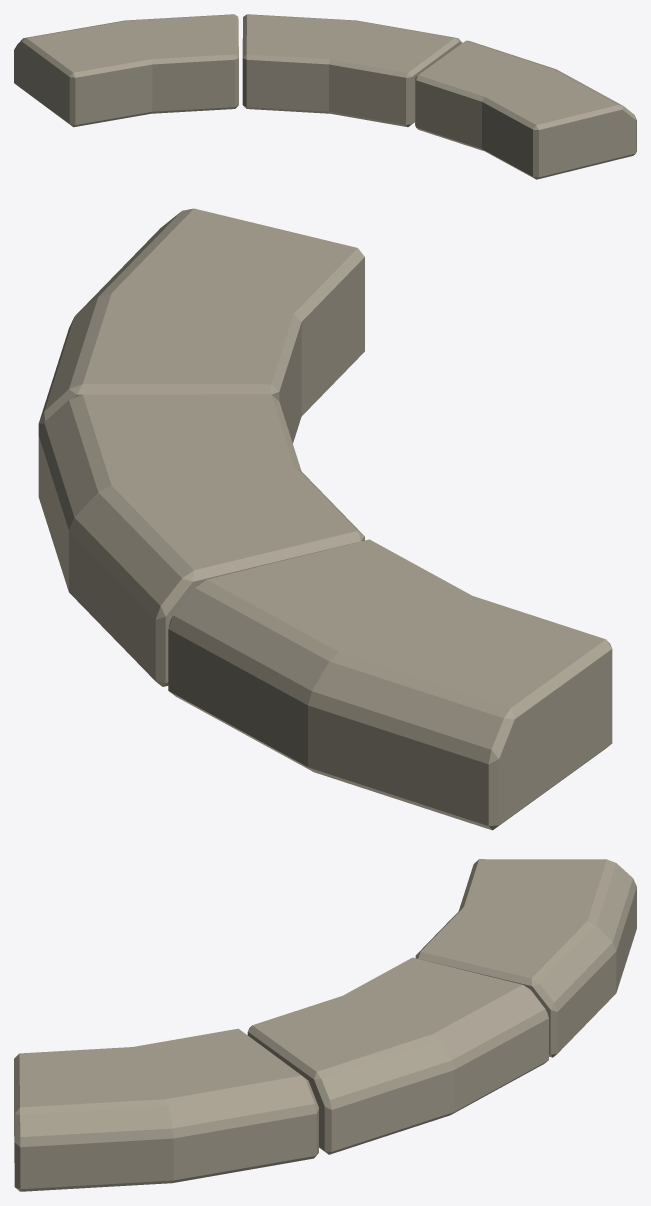
Rendered from curb_corner.glb.
3 views of the same model, one above another, from view 1: azimuth 30°, elevation 25°; view 2: azimuth 150°, elevation 25°; view 3: azimuth 270°, elevation 25° (orthographic). The views are drawn at different scales.
Visible parts, largest first — view 1: curb_corner; view 2: curb_corner; view 3: curb_corner.
Boxes of the visible parts, x1,y1,x2,y2 form: curb_corner: (14, 14, 636, 179); curb_corner: (38, 208, 612, 830); curb_corner: (14, 859, 636, 1191).
Bounding box in the file's own units: 1.14 × 0.15 × 1.14.
